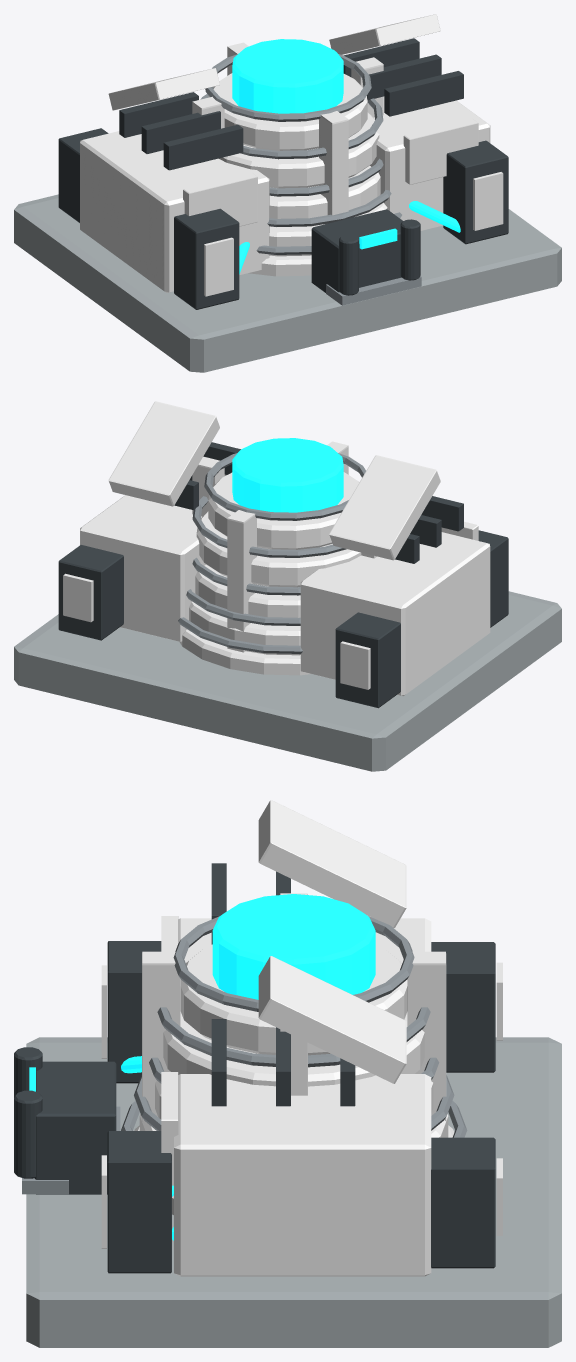
File: scientificCenter.glb
The picture shows the model from 3 angles, top to bottom: view 1: azimuth 30°, elevation 25°; view 2: azimuth 150°, elevation 25°; view 3: azimuth 270°, elevation 25°; orthographic projection. The views are drawn at different scales.
Parts seen in each view (by area): view 1: modelRoot:team-primary, modelRoot:foundation-concrete, modelRoot:structure, modelRoot:system-emissive, modelRoot:neutral-metal; view 2: modelRoot:team-primary, modelRoot:foundation-concrete, modelRoot:structure, modelRoot:system-emissive, modelRoot:neutral-metal; view 3: modelRoot:team-primary, modelRoot:foundation-concrete, modelRoot:structure, modelRoot:system-emissive, modelRoot:neutral-metal.
Boxes of the visible parts, x1,y1,x2,y2 form: modelRoot:team-primary: (80, 14, 503, 296); modelRoot:foundation-concrete: (14, 194, 561, 372); modelRoot:structure: (58, 38, 508, 309); modelRoot:system-emissive: (232, 39, 460, 274); modelRoot:neutral-metal: (200, 54, 421, 305); modelRoot:team-primary: (63, 401, 490, 696); modelRoot:foundation-concrete: (14, 591, 561, 771); modelRoot:structure: (58, 442, 508, 708); modelRoot:system-emissive: (232, 438, 343, 512); modelRoot:neutral-metal: (178, 453, 365, 653); modelRoot:team-primary: (101, 800, 502, 1276); modelRoot:foundation-concrete: (26, 1037, 561, 1347); modelRoot:structure: (14, 863, 495, 1273); modelRoot:system-emissive: (29, 894, 375, 1240); modelRoot:neutral-metal: (22, 916, 467, 1194).
Bounding box in the file's own units: 2.9 × 1.64 × 2.56.
